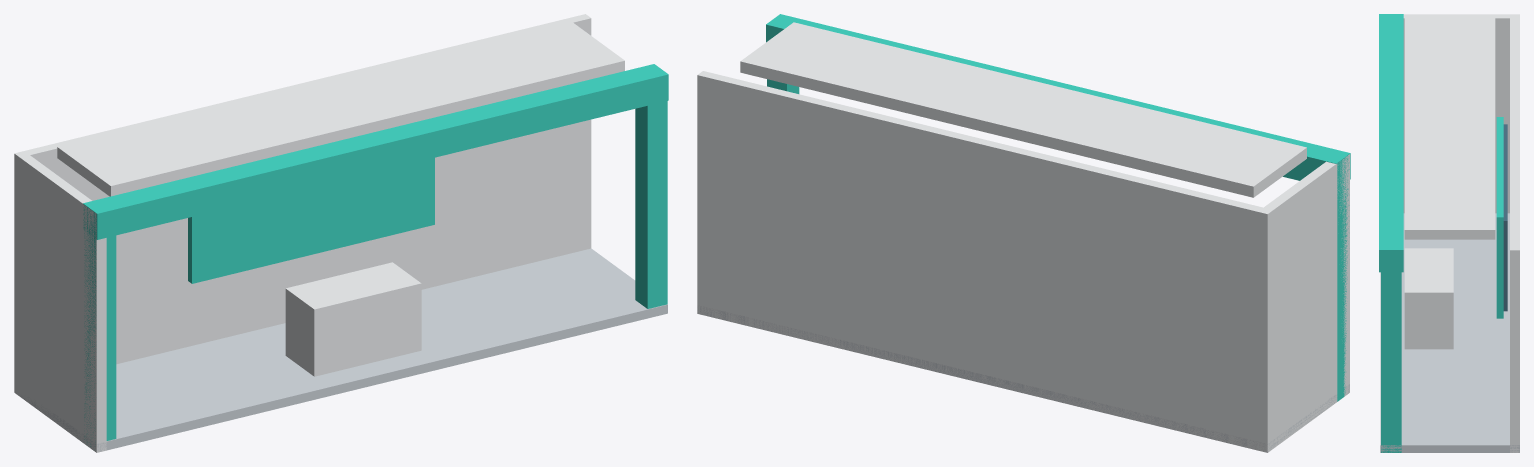
3 renders of one model, left to right at view 1: azimuth 30°, elevation 25°; view 2: azimuth 150°, elevation 25°; view 3: azimuth 270°, elevation 25°, orthographic. The views are drawn at different scales.
Parts seen in each view (by area): view 1: Exhibition Booth Concept; view 2: Exhibition Booth Concept; view 3: Exhibition Booth Concept.
Part boxes in pixels (left/top/right/bottom): Exhibition Booth Concept: left=14, top=14, right=668, bottom=452; Exhibition Booth Concept: left=697, top=14, right=1350, bottom=452; Exhibition Booth Concept: left=1379, top=14, right=1519, bottom=452.
Size of the model in its own units: 8 by 3.34 by 2.01.
